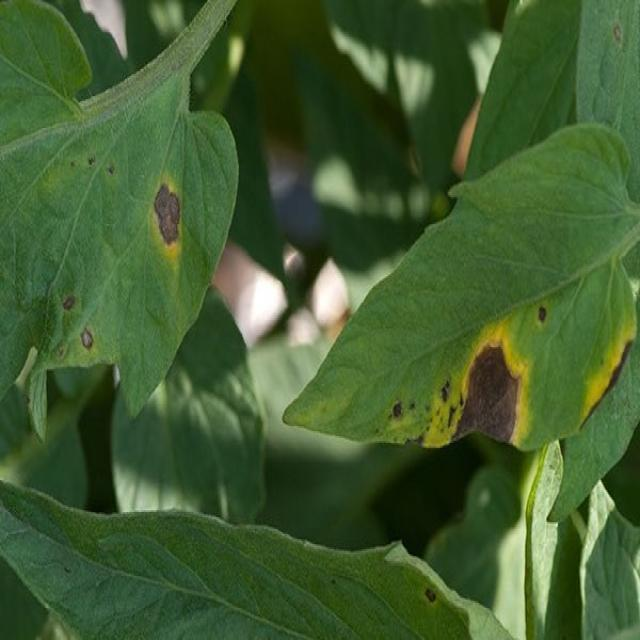Septoria: (57, 278, 109, 364)
